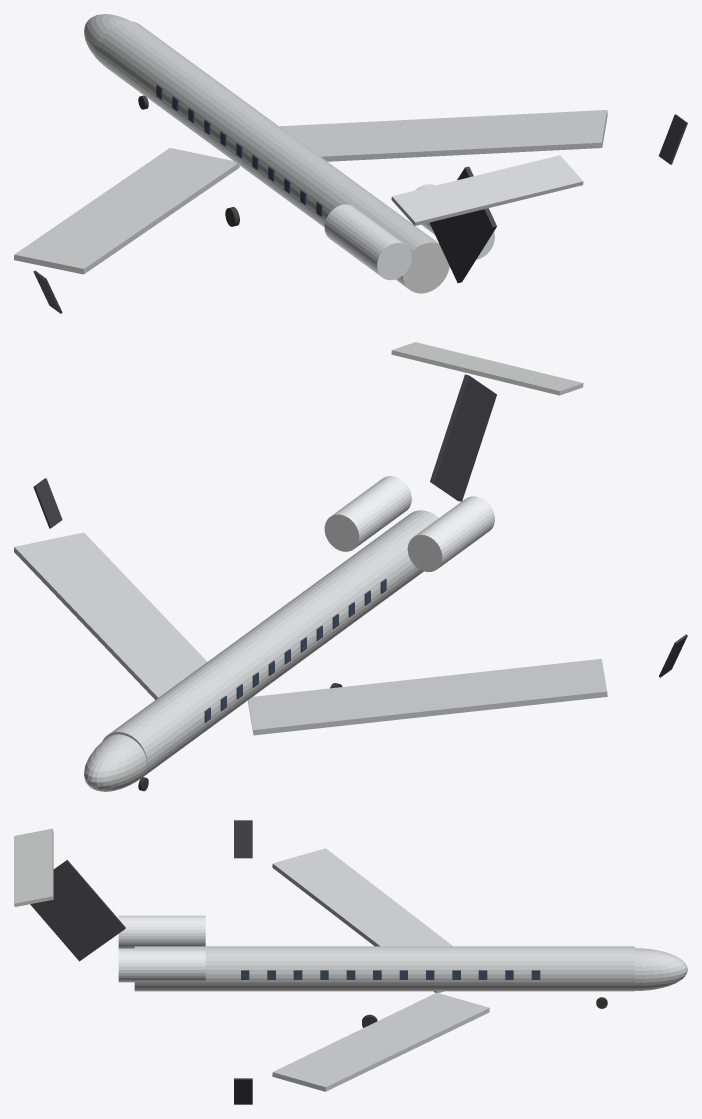
File: bombardier_global_7500.glb
3 views of the same model, one above another, from view 1: azimuth 30°, elevation 25°; view 2: azimuth 150°, elevation 25°; view 3: azimuth 270°, elevation 25° (orthographic). The views are drawn at different scales.
Parts seen in each view (by area): view 1: Global7500_Fuselage, Cube.026, Cube.028, Cube.025, Cylinder.001, Cube.024, Sphere, Cube.027; view 2: Global7500_Fuselage, Cube.028, Cube.026, Cube.024, Cylinder, Cylinder.001, Cube.025, Sphere, Cube.027; view 3: Global7500_Fuselage, Cube.026, Cube.028, Cube.024, Cylinder, Cube.025, Cylinder.001, Sphere, Cube.029, Cube.027.
Part boxes in pixels (bbox=[...]): Global7500_Fuselage: bbox=[100, 21, 449, 293]; Cube.026: bbox=[279, 110, 607, 161]; Cube.028: bbox=[14, 148, 239, 274]; Cube.025: bbox=[391, 155, 583, 225]; Cylinder.001: bbox=[324, 204, 411, 280]; Cube.024: bbox=[430, 166, 496, 282]; Sphere: bbox=[84, 14, 129, 66]; Cube.027: bbox=[659, 114, 687, 164]; Global7500_Fuselage: bbox=[102, 510, 438, 778]; Cube.028: bbox=[248, 659, 607, 735]; Cube.026: bbox=[14, 532, 207, 699]; Cube.024: bbox=[430, 374, 496, 501]; Cylinder: bbox=[324, 476, 411, 551]; Cylinder.001: bbox=[407, 496, 494, 571]; Cube.025: bbox=[391, 342, 583, 395]; Sphere: bbox=[84, 734, 147, 791]; Cube.027: bbox=[33, 478, 62, 528]; Global7500_Fuselage: bbox=[134, 946, 634, 991]; Cube.026: bbox=[272, 992, 489, 1091]; Cube.028: bbox=[272, 848, 452, 992]; Cube.024: bbox=[30, 860, 125, 961]; Cylinder: bbox=[118, 949, 205, 982]; Cube.025: bbox=[14, 828, 53, 906]; Cylinder.001: bbox=[118, 915, 205, 948]; Sphere: bbox=[633, 948, 687, 990]; Cube.029: bbox=[234, 820, 252, 858]; Cube.027: bbox=[234, 1078, 252, 1104].
Bounding box in the file's own units: 32.5 × 8.69 × 35.7.
